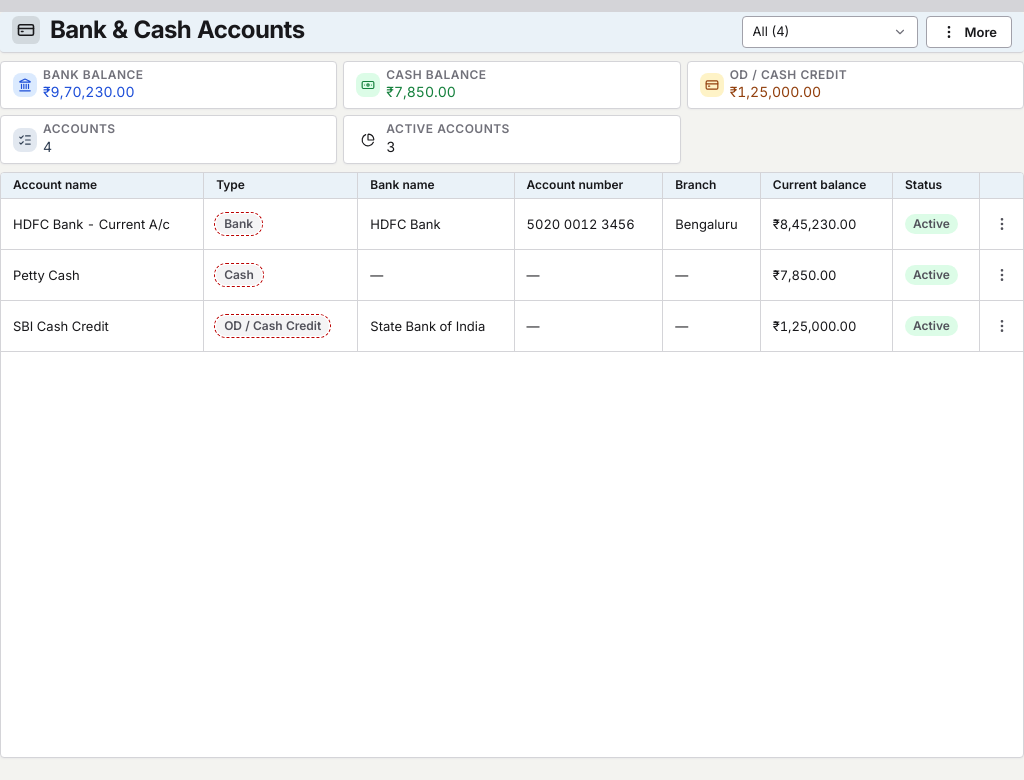
Scenario: the screen › keeps a closed account out of the live list and under Inactive
The width and height of the screenshot is (1024, 780).
Expected: the text "Old Union Bank" is not shown
Select "Inactive (1)" in the dropdown named "Accounts" at (830, 32), box 742,16 -> 918,48
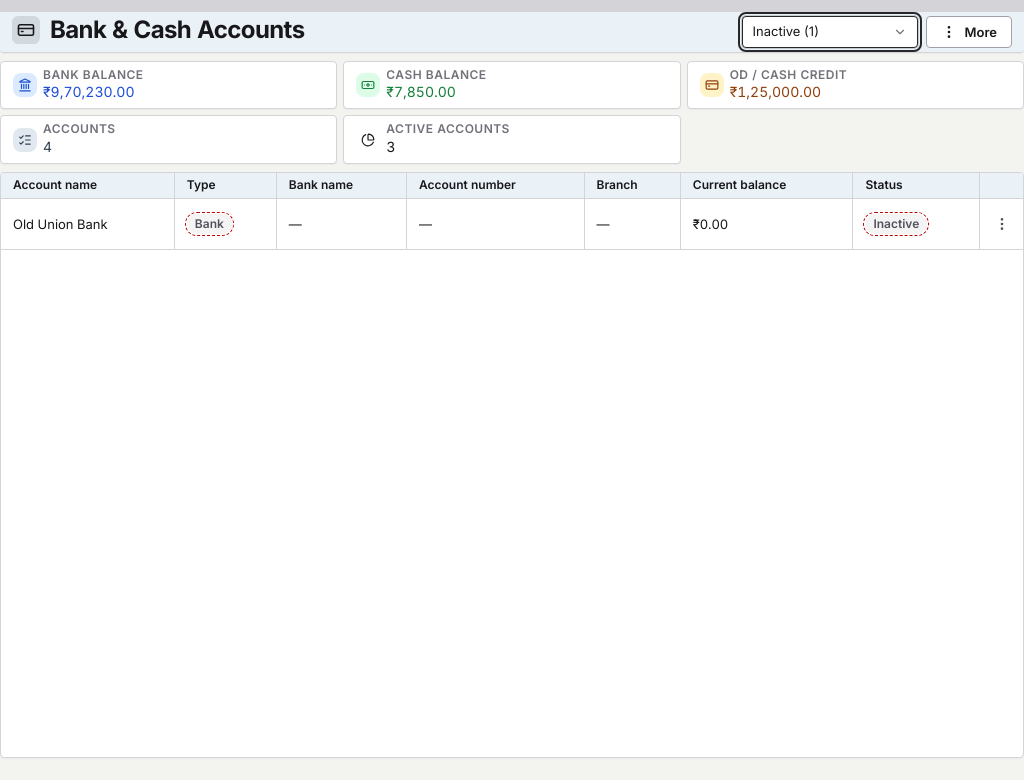
Expected: the text "Old Union Bank" is shown, 1,199 -> 174,250
Expected: the text "Petty Cash" is gone
